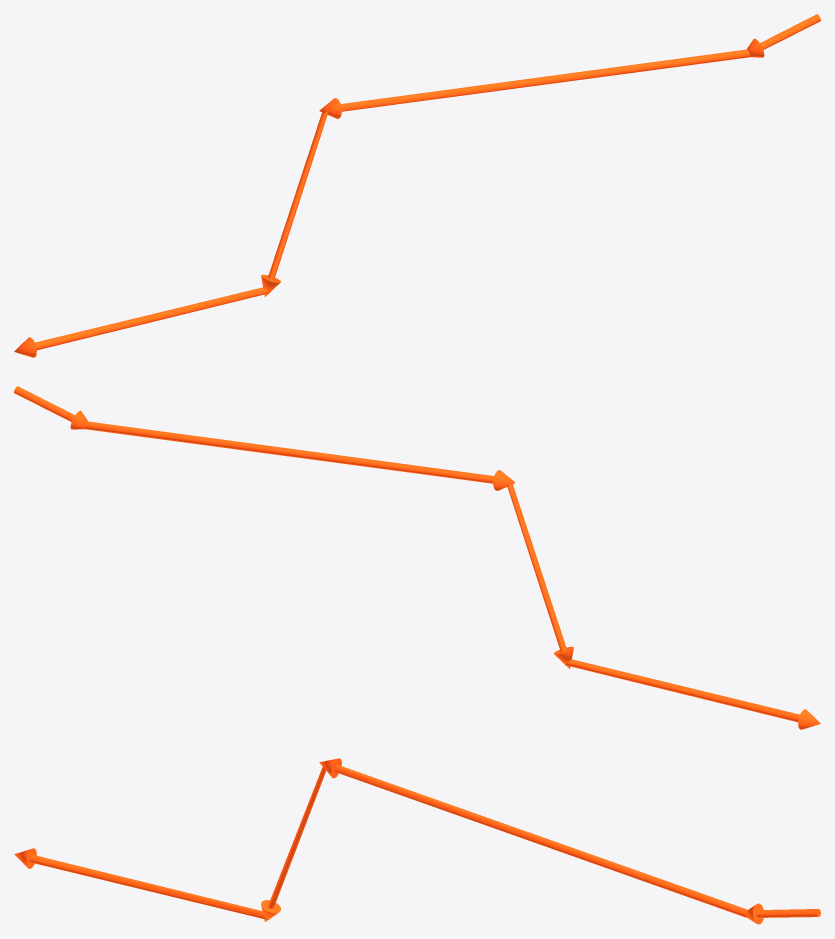
File: reclaimer_flow.glb
3 views of the same model, one above another, from view 1: azimuth 30°, elevation 25°; view 2: azimuth 150°, elevation 25°; view 3: azimuth 330°, elevation 25° (orthographic).
Parts seen in each view (by area): view 1: reclaiming; view 2: reclaiming; view 3: reclaiming.
Part boxes in pixels (x1,y1,x2,y2): reclaiming: (14, 14, 820, 357); reclaiming: (14, 386, 820, 729); reclaiming: (14, 758, 820, 924).
Bounding box in the file's own units: 6.87 × 1.5 × 0.156.
